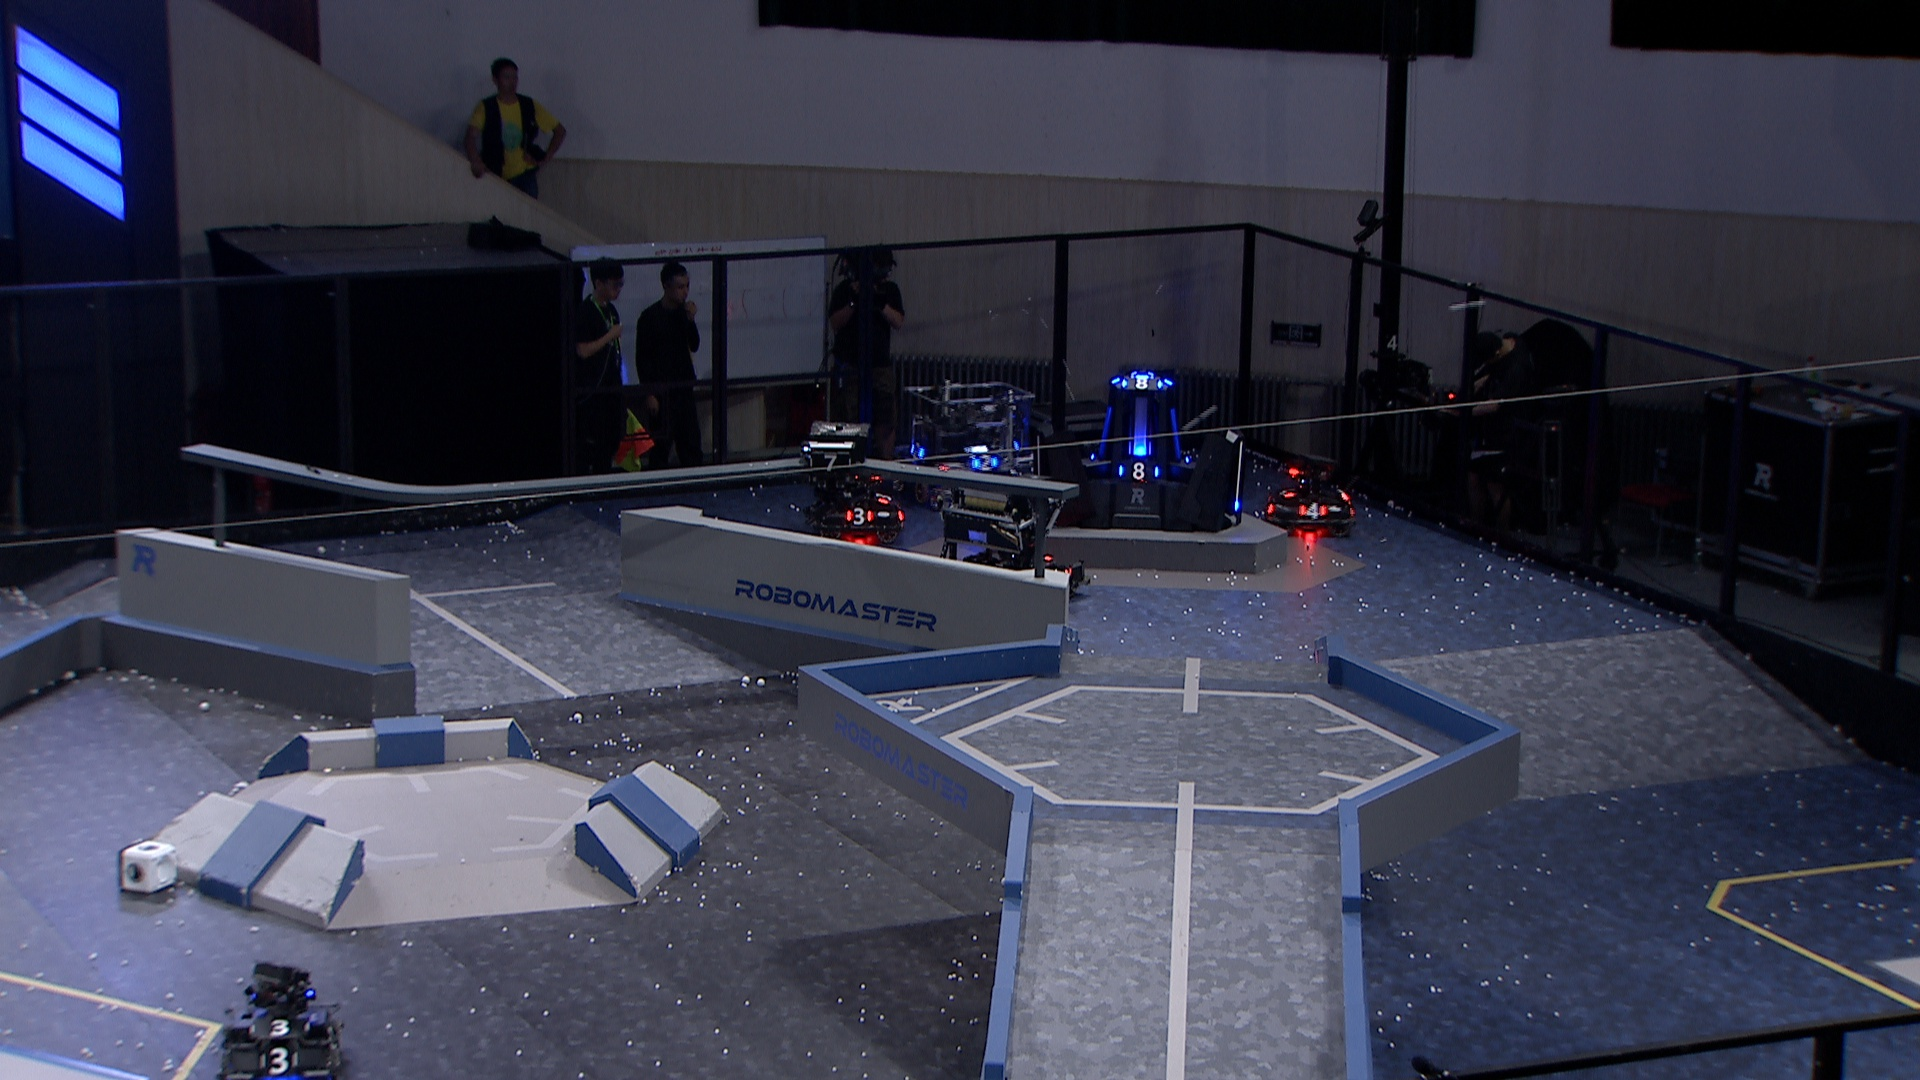armor: (249, 1014, 313, 1039), (257, 1044, 302, 1077), (807, 452, 855, 475), (1096, 404, 1114, 460), (1117, 372, 1167, 392), (1116, 462, 1162, 480), (1295, 498, 1329, 522), (1168, 407, 1183, 462), (319, 1022, 342, 1052), (843, 505, 874, 526), (968, 454, 1001, 471), (873, 489, 893, 509), (1131, 443, 1149, 460)
base: (1031, 365, 1249, 535)
car: (936, 467, 1091, 603), (901, 371, 1044, 508), (211, 963, 349, 1080), (803, 469, 906, 547), (1261, 452, 1358, 533)
watcher: (798, 418, 877, 522)
